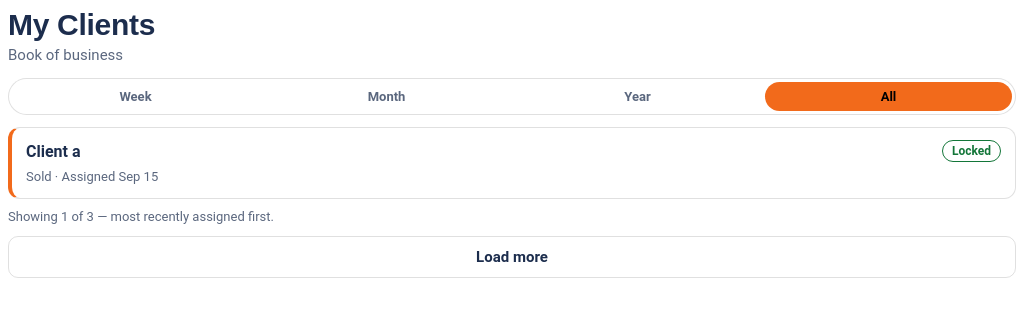
Test: Canvass-5 — paging the list › ⚠ a failed page keeps the rows AND the cursor — a transient error is not the end
This screenshot has width=1024, height=316.
Expected: the text "Client a" is shown, [26, 142, 80, 160]
What coordinates should you click on to do the following:
click the button "Load more"
I would click on:
 (512, 257)
Its box is [8, 236, 1016, 278].
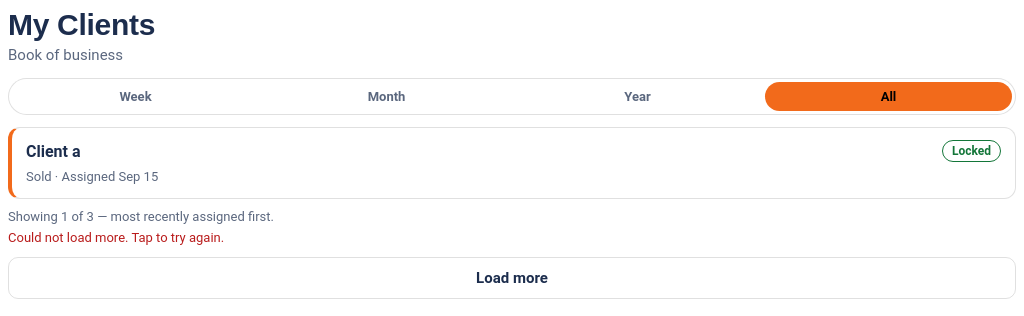
Expected: the text "Client a" is shown, [26, 142, 80, 160]
Expected: the message "Could not load more. Tap to try again." is shown, [8, 230, 224, 245]
